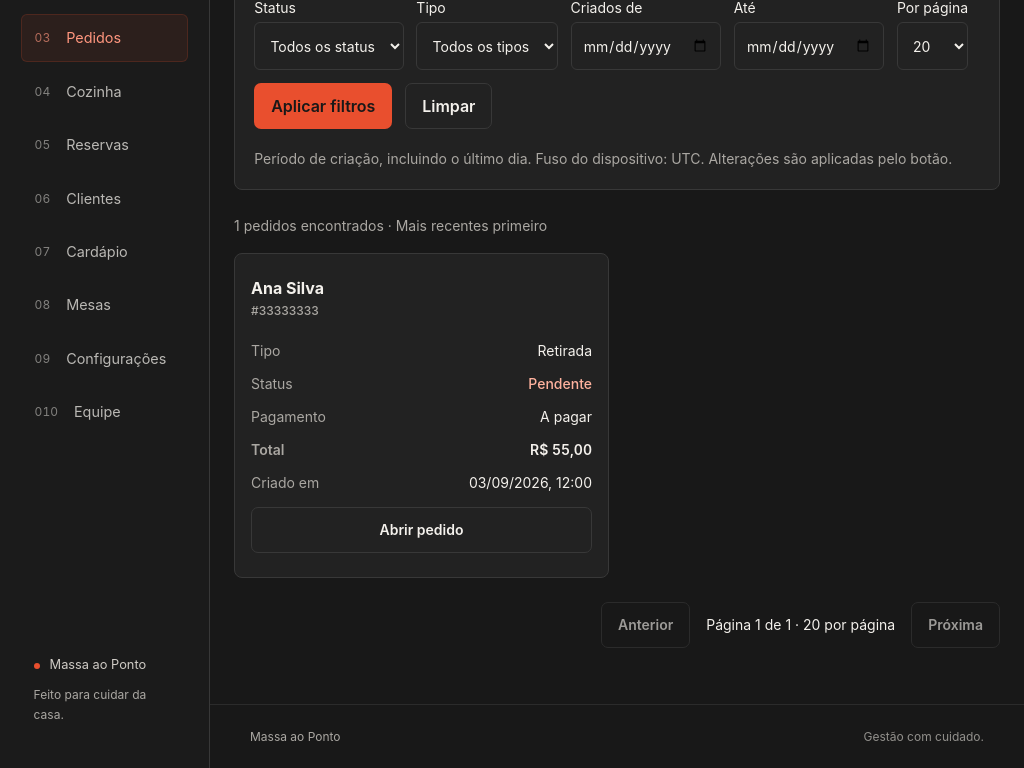
Test: Orders UI › loads detail, snapshot addons, observation and ordered history
The width and height of the screenshot is (1024, 768).
(page scrolled)
Click the button "Abrir pedido" at (422, 530), box x1=251 y1=507 x2=592 y2=553
(page scrolled)
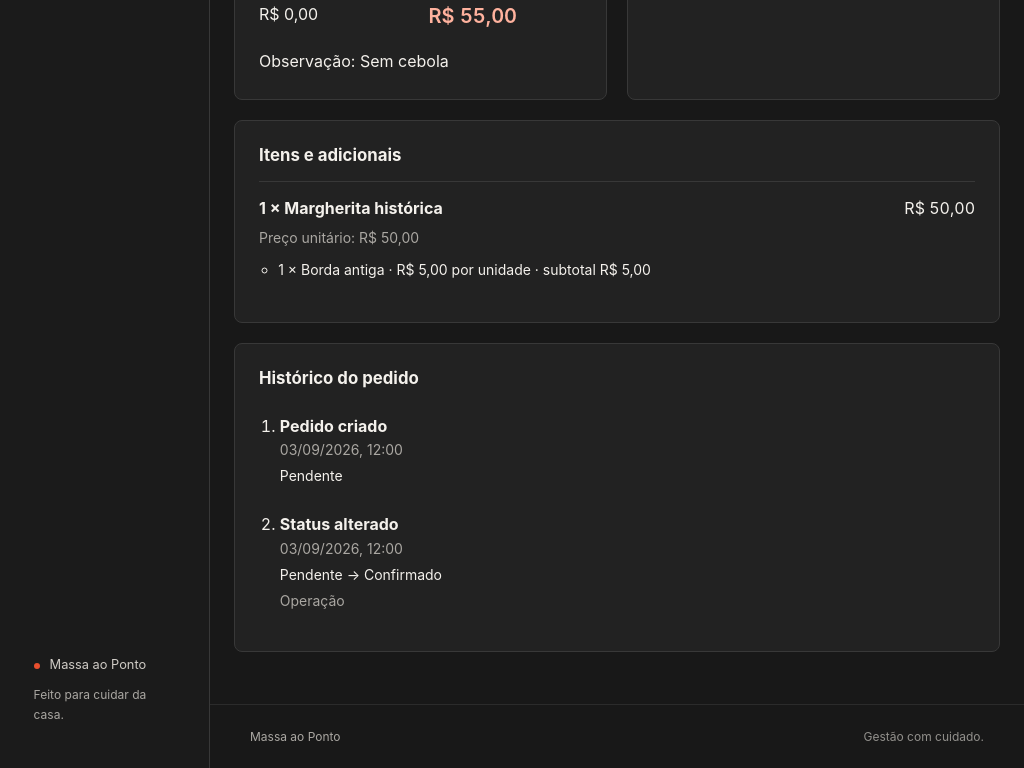
Result: the text "1 × Margherita histórica" is shown at x1=259 y1=198 x2=443 y2=218
Result: the list item "1 × Borda antiga · R$ 5,00 por unidade · subtotal R$ 5,00" is shown at x1=278 y1=261 x2=651 y2=278
Result: the text "Observação: Sem cebola" is shown at x1=259 y1=51 x2=449 y2=71
